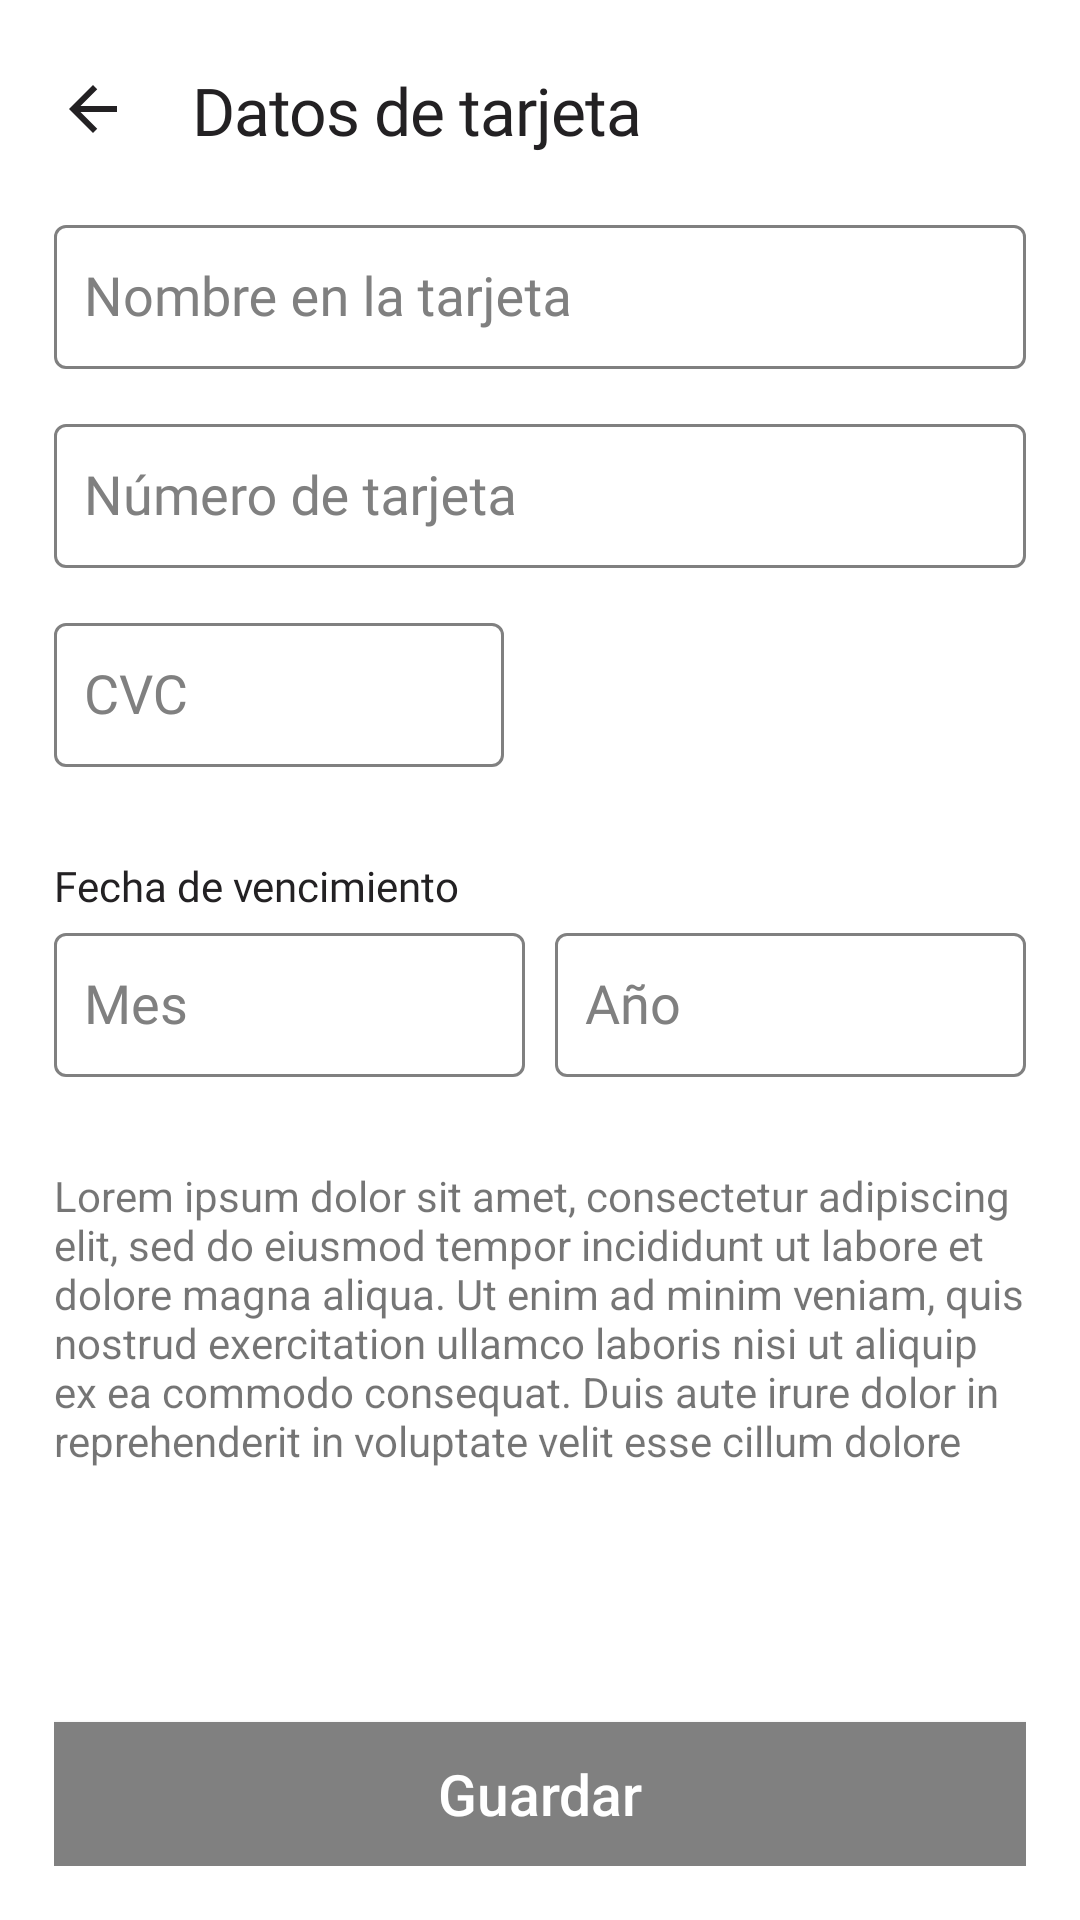

Icon bounding boxes for this 1080 × 1920 phone screenshot, format (x1, y1, x2, y2):
arrow back: (69, 85, 117, 133)
